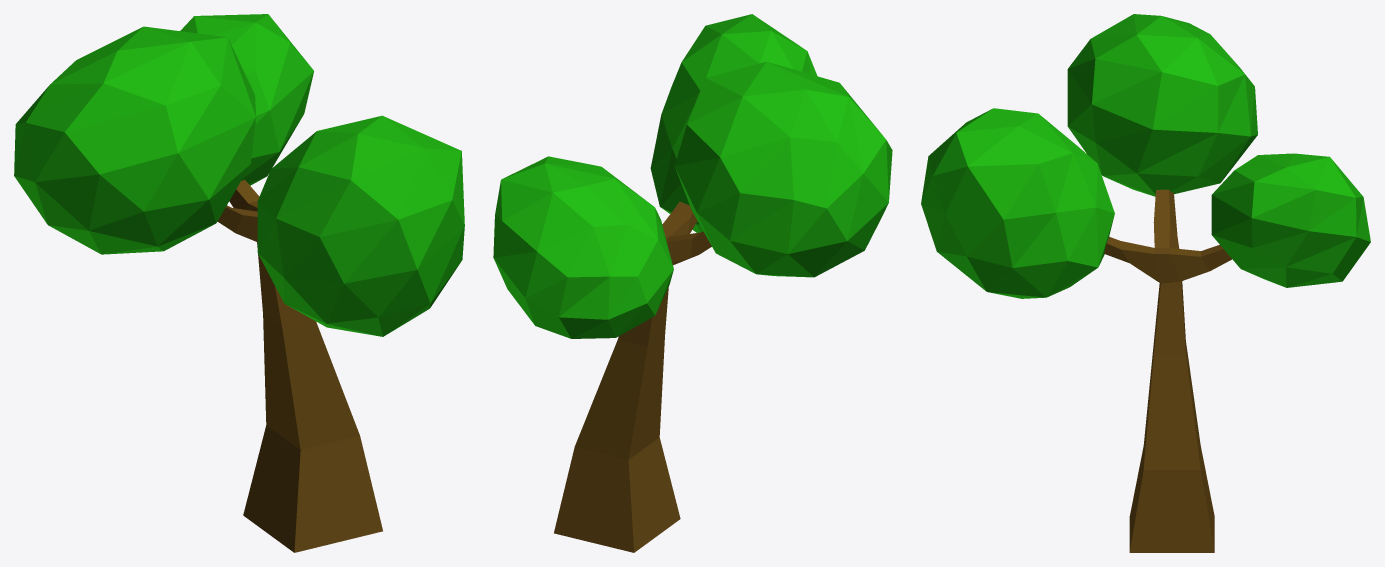
Rendered from NormalTree.fbx.
3 views of the same model, side by side, from view 1: azimuth 30°, elevation 25°; view 2: azimuth 150°, elevation 25°; view 3: azimuth 270°, elevation 25° (orthographic). The views are drawn at different scales.
Parts seen in each view (by area): view 1: Cube.002; view 2: Cube.002; view 3: Cube.002.
Boxes of the visible parts, <box> form: Cube.002: <box>14,14,464,552</box>; Cube.002: <box>493,14,892,552</box>; Cube.002: <box>921,14,1370,552</box>.
Bounding box in the file's own units: 265 × 364 × 395.
